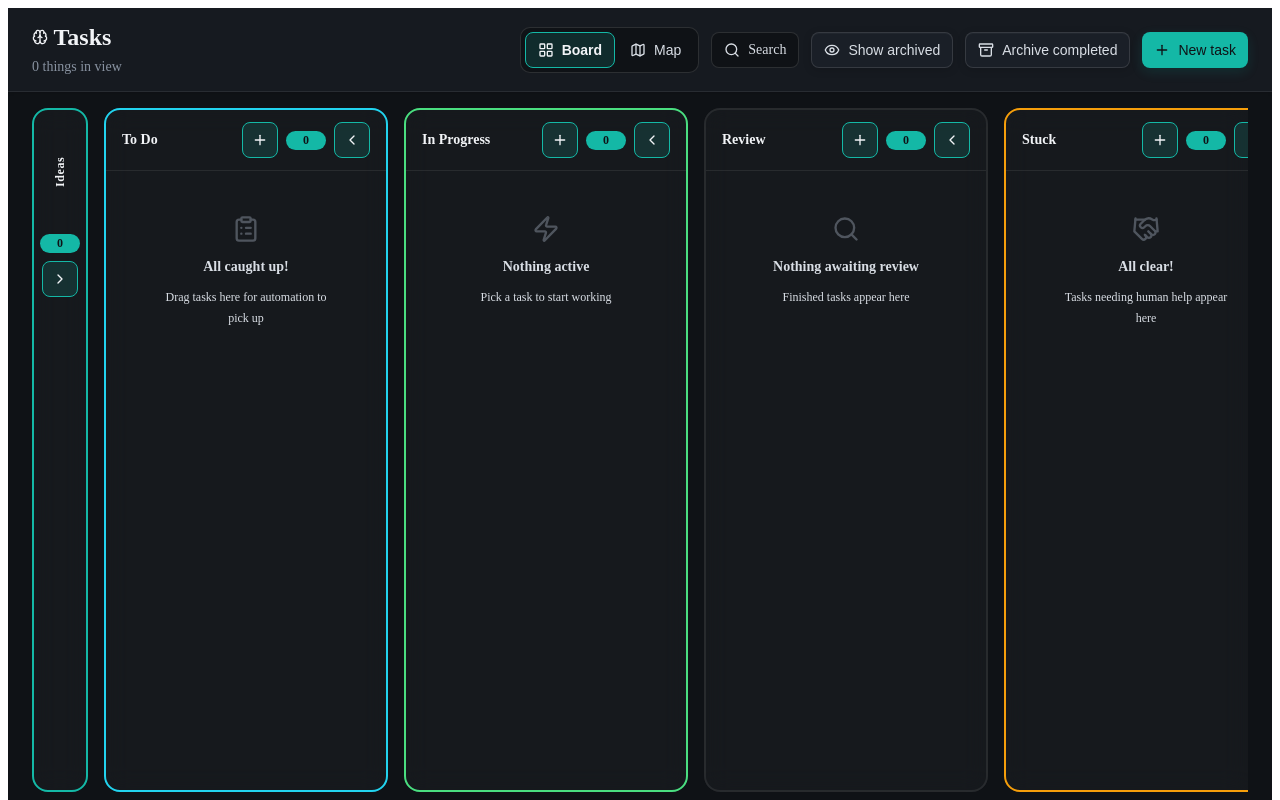
it: search reveal (amendment 2d5e2caa Ruling 2) › the panel is hidden until Search is activated, then focuses the input
Check: the field with placeholder "Search tasks by title or description..." is not shown
Click the button with aria-label "Search and filter": coordinates (755, 50) [711,32,799,68]
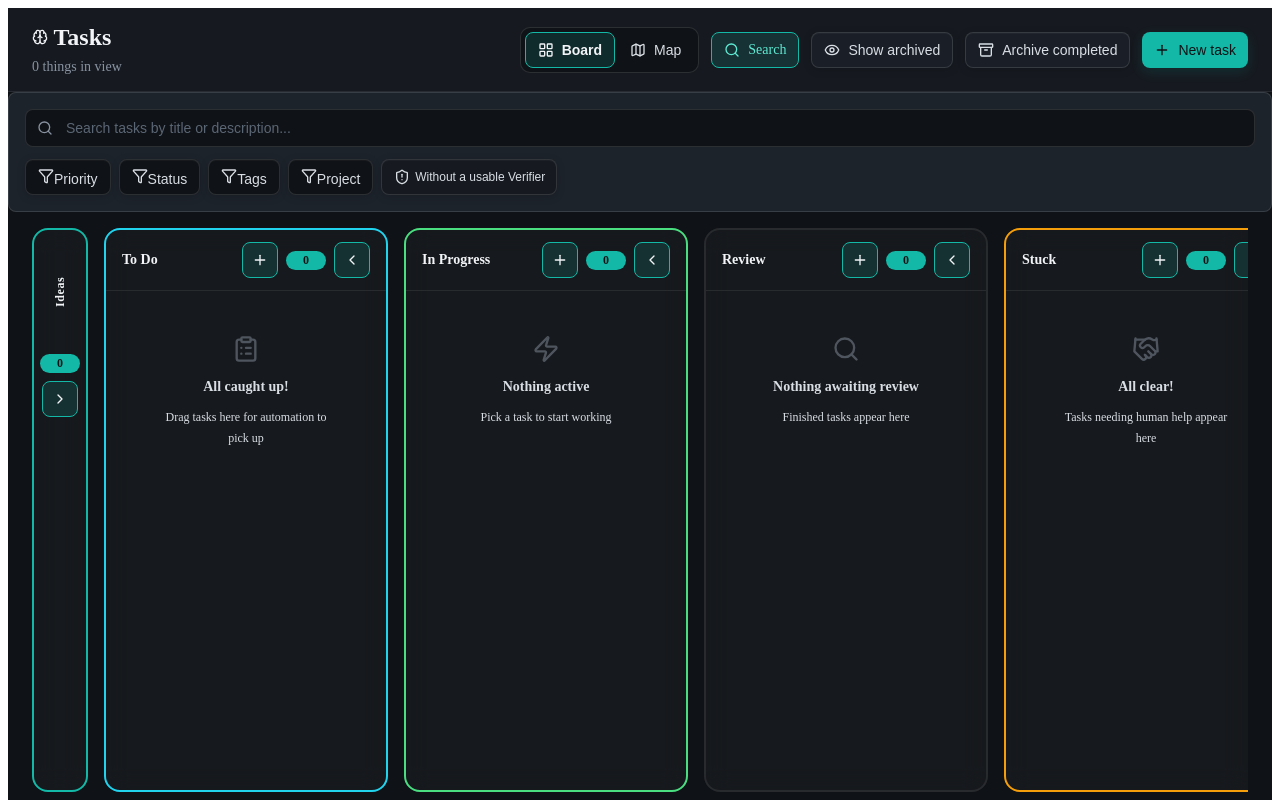
Check: the button with aria-label "Search and filter" is expanded, box [711,32,799,68]
